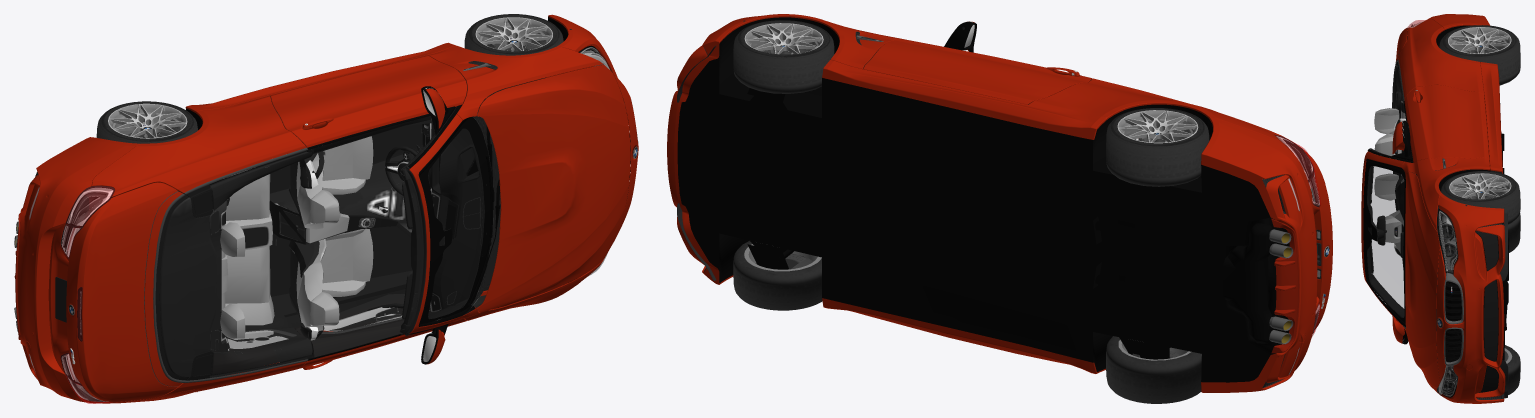
3 renders of one model, left to right at view 1: azimuth 30°, elevation 25°; view 2: azimuth 150°, elevation 25°; view 3: azimuth 270°, elevation 25°, orthographic. The views are drawn at different scales.
Visible parts, largest first — view 1: body_mesh, wheel_RL_mesh, wheel_FL_mesh; view 2: body_mesh, wheel_RL_mesh, wheel_FL_mesh, wheel_RR_mesh, wheel_FR_mesh; view 3: body_mesh, wheel_RL_mesh, wheel_FL_mesh, wheel_FR_mesh, wheel_RR_mesh.
Boxes of the visible parts, x1,y1,x2,y2 form: body_mesh: [14, 14, 638, 403]; wheel_RL_mesh: [96, 101, 197, 143]; wheel_FL_mesh: [464, 14, 563, 55]; body_mesh: [667, 14, 1332, 392]; wheel_RL_mesh: [1106, 108, 1209, 186]; wheel_FL_mesh: [733, 20, 834, 93]; wheel_RR_mesh: [1106, 336, 1201, 403]; wheel_FR_mesh: [733, 240, 822, 310]; body_mesh: [1361, 14, 1508, 403]; wheel_RL_mesh: [1439, 25, 1520, 85]; wheel_FL_mesh: [1441, 171, 1520, 224]; wheel_FR_mesh: [1504, 345, 1520, 394]; wheel_RR_mesh: [1508, 213, 1520, 252].
Size of the model in its own units: 4.67 by 2.03 by 1.32.
29 materials, 9 textured.
